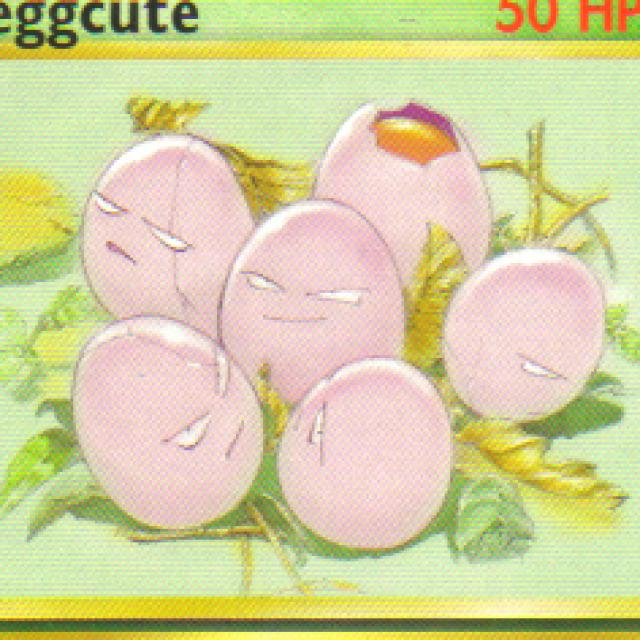Exeggcute: (65, 98, 610, 548)
